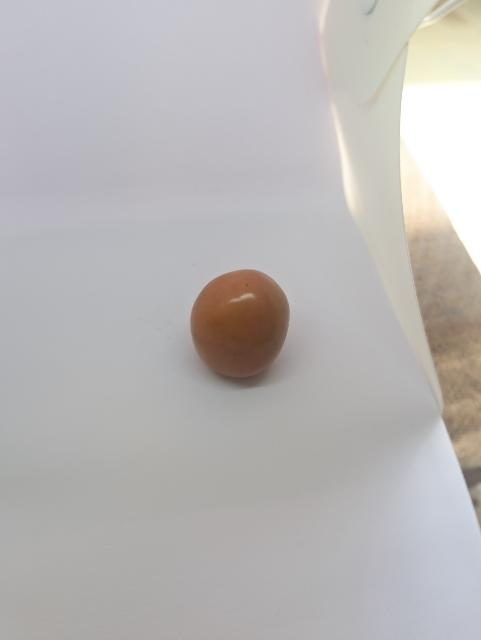turning: (188, 262, 295, 384)
